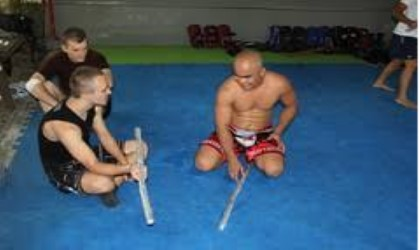baston_e: (133, 135, 159, 218), (217, 166, 253, 222)
baston_v: (142, 216, 159, 228), (214, 222, 228, 234), (132, 125, 146, 137)
